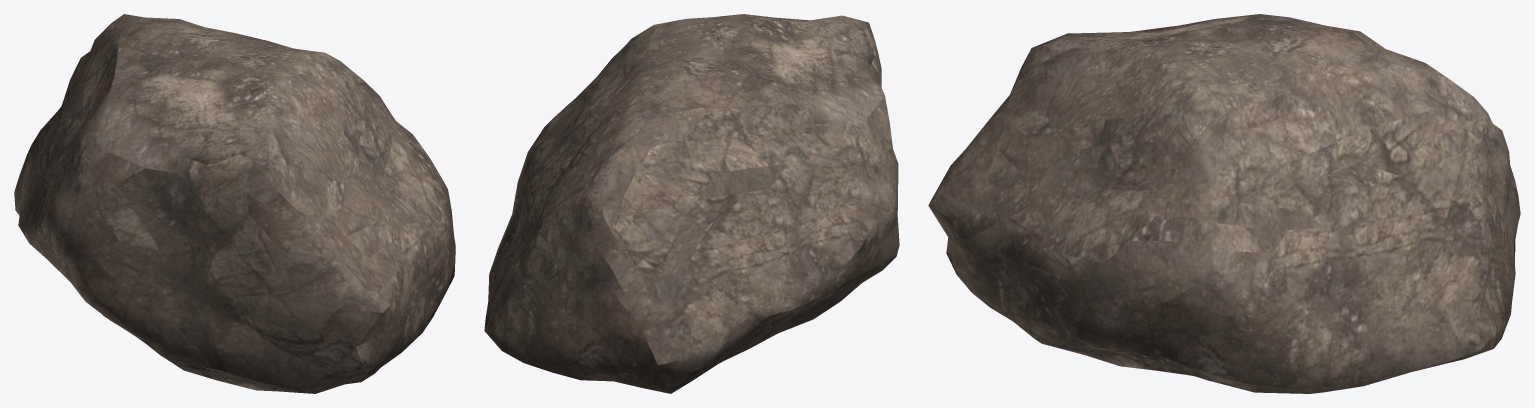
File: rock_03.glb
3 views of the same model, side by side, from view 1: azimuth 30°, elevation 25°; view 2: azimuth 150°, elevation 25°; view 3: azimuth 270°, elevation 25° (orthographic). The views are drawn at different scales.
Visible parts, largest first — view 1: rock_03; view 2: rock_03; view 3: rock_03.
Part boxes in pixels (x1,y1,x2,y2): rock_03: (14, 14, 455, 393); rock_03: (484, 14, 899, 393); rock_03: (928, 14, 1520, 393).
Bounding box in the file's own units: 0.999 × 0.7216 × 1.35.
1 material, 1 textured.
